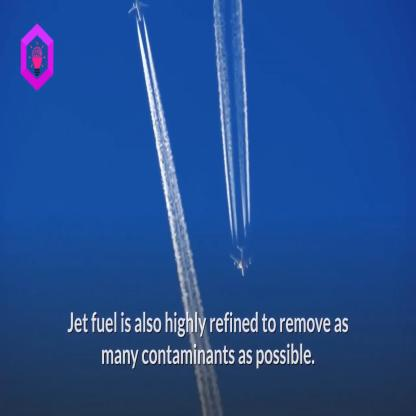plane: (227, 242, 261, 277), (128, 0, 153, 23)
